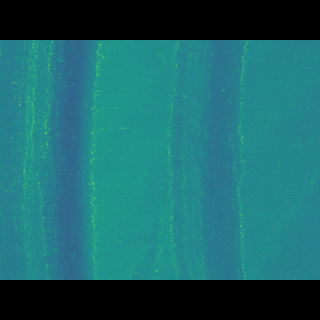Loch: (0, 68, 103, 249), (166, 70, 250, 249)
